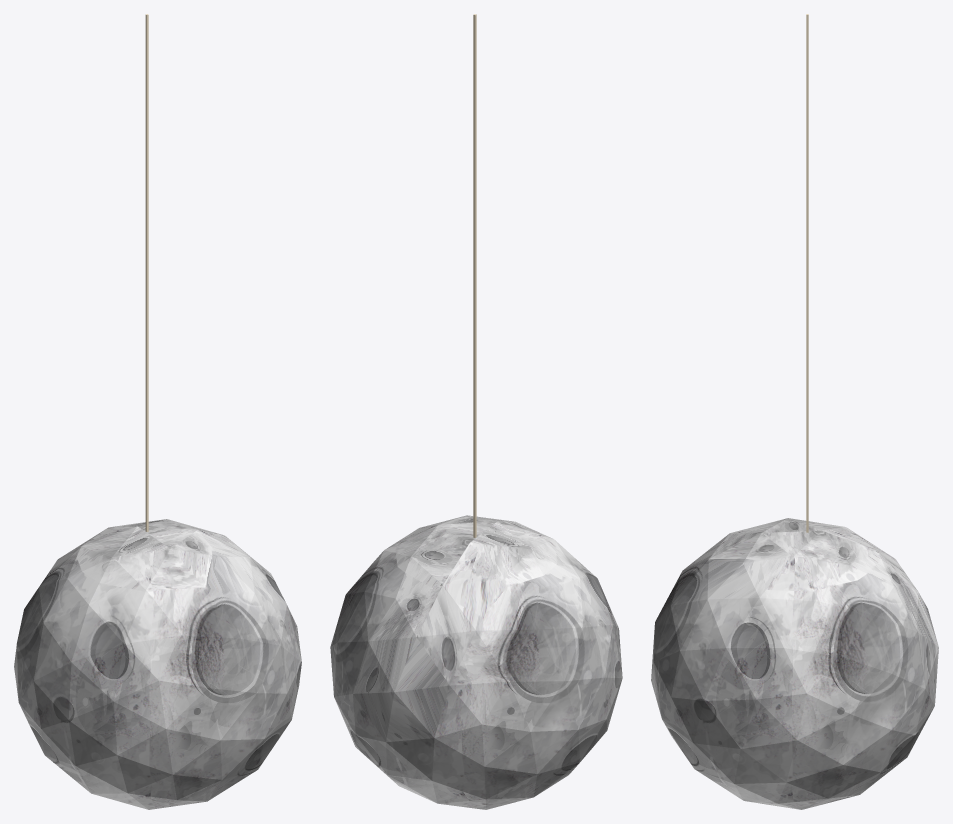
Rendered from moon.obj.
The picture shows the model from 3 angles, left to right: view 1: azimuth 30°, elevation 25°; view 2: azimuth 150°, elevation 25°; view 3: azimuth 270°, elevation 25°; orthographic projection.
Size of the model in its own units: 26.22 by 77.42 by 25.99.
2 materials, 1 textured.
